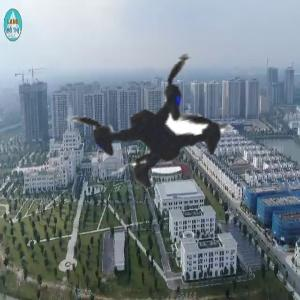drone: (16, 3, 300, 287)
